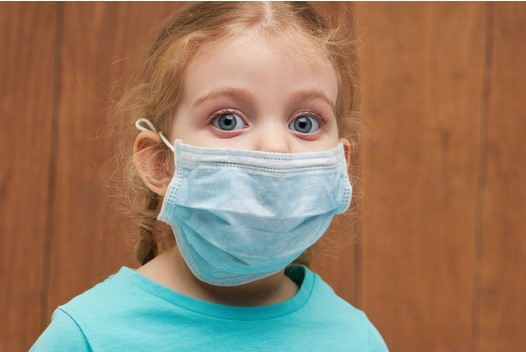face_with_mask: (134, 6, 354, 289)
